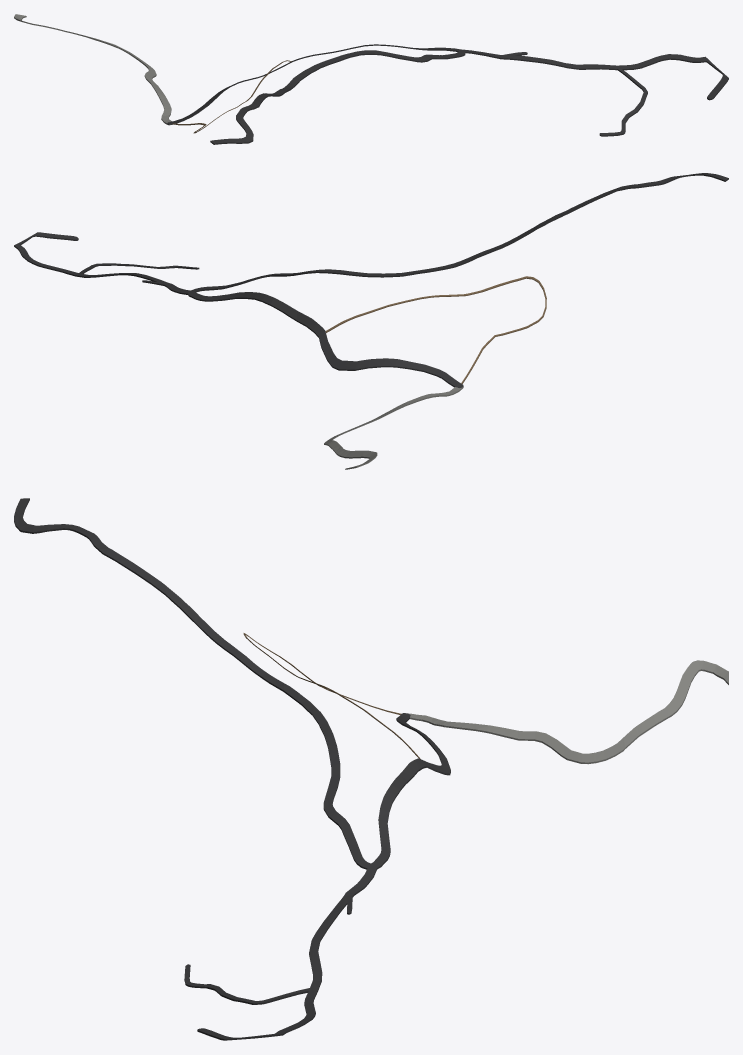
3 views of the same model, one above another, from view 1: azimuth 30°, elevation 25°; view 2: azimuth 150°, elevation 25°; view 3: azimuth 270°, elevation 25° (orthographic). The views are drawn at different scales.
Bounding box in the file's own units: 587 × 146 × 485.
